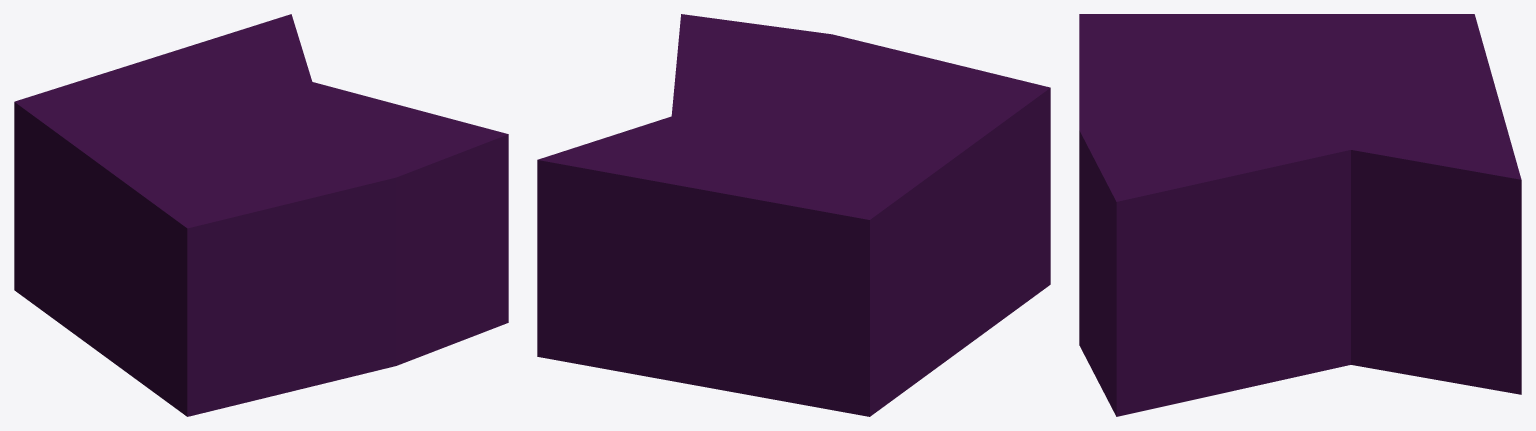
The model's file is buho2.glb.
3 renders of one model, left to right at view 1: azimuth 30°, elevation 25°; view 2: azimuth 150°, elevation 25°; view 3: azimuth 270°, elevation 25°, orthographic. The views are drawn at different scales.
Visible parts, largest first — view 1: buho2; view 2: buho2; view 3: buho2.
Part boxes in pixels (x1=…): buho2: x1=14, y1=14, x2=508, y2=416; buho2: x1=537, y1=14, x2=1050, y2=416; buho2: x1=1079, y1=14, x2=1521, y2=416.
Size of the model in its own units: 0.5745 by 0.3065 by 0.571.
